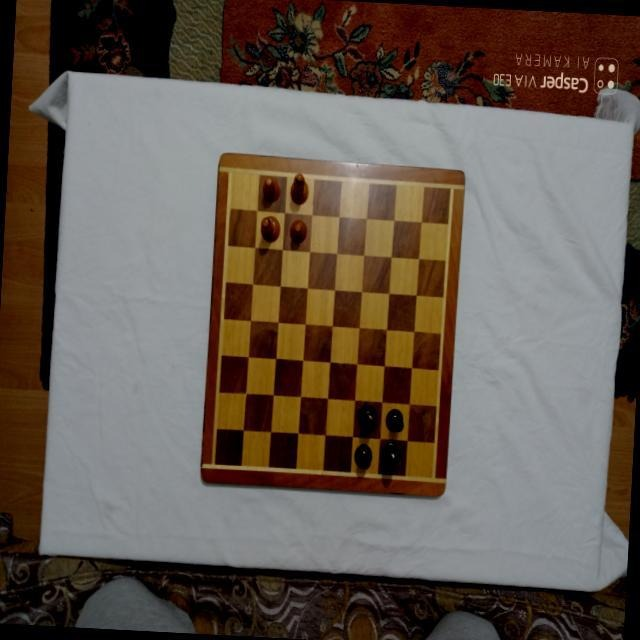black-bishop: (379, 441, 402, 474), (357, 403, 378, 433)
black-pawn: (354, 443, 373, 471), (385, 407, 404, 433)
white-bishop: (289, 173, 311, 205), (259, 214, 280, 242)
white-pawn: (262, 176, 282, 203), (288, 219, 307, 245)
